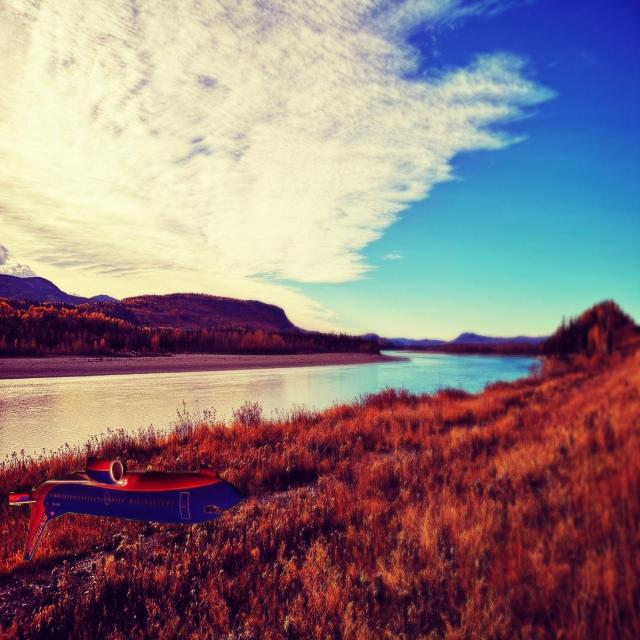airplane: (8, 455, 244, 562)
